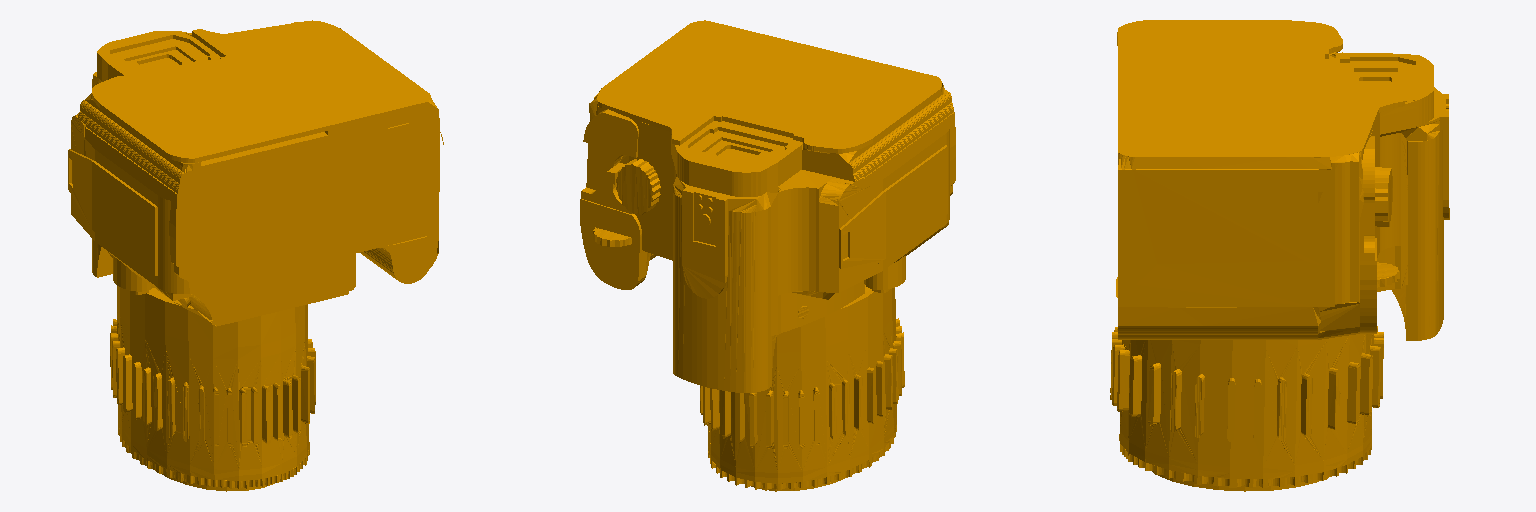
URDF robot description (02942699_97690c4db20227d248e23e2c398d8046):
<?xml version='1.0'?>

<robot name="02942699_97690c4db20227d248e23e2c398d8046">
    <static>false</static>
    <link name="link">
        <inertial>
            <mass value="0.11457854072865728"/>
            <inertia ixx="-0.0008056303644983716" ixy="0.0" ixz="-8.951448494426351e-05" iyy="-0.000895144849442635"
                     iyz="0.0" izz="-0.0002685434548327905"/>
        </inertial>
        <collision name="collision">
            <geometry>
                <mesh filename="package://miscnet/train/02942699_97690c4db20227d248e23e2c398d8046/collision_model_vhacd.obj"/>
            </geometry>
        </collision>
        <visual name="visual">
            <geometry>
                <mesh filename="package://miscnet/train/02942699_97690c4db20227d248e23e2c398d8046/visual_model.obj"/>
            </geometry>
        </visual>
    </link>
</robot>

--- Render facts (derived) ---
Views: 3 orthographic renders of the robot side by side, from view 1: azimuth 30°, elevation 25°; view 2: azimuth 150°, elevation 25°; view 3: azimuth 270°, elevation 25°.
Model 02942699_97690c4db20227d248e23e2c398d8046 with 1 links and 0 joints (none), rooted at link, posed every joint at zero.
Visible links, largest first — view 1: link; view 2: link; view 3: link.
Boxes of the visible links, x1,y1,x2,y2 form: link: [68, 20, 443, 491]; link: [580, 20, 955, 491]; link: [1110, 20, 1449, 491].
Bounding box of the posed robot: 0.0925 × 0.0909 × 0.1157 m (x, y, z).
1 mesh visuals loaded from 1 distinct referenced files (1 OBJ).
